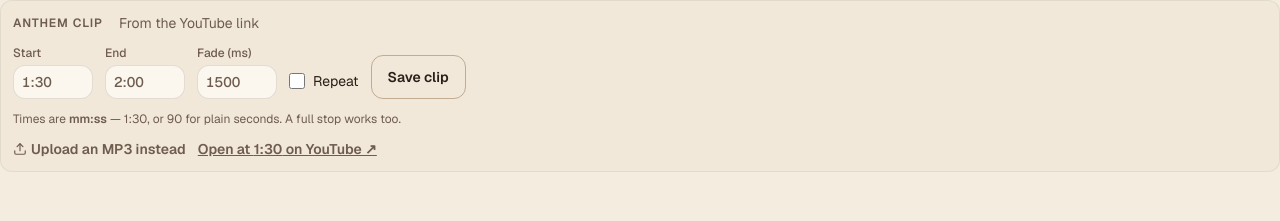
Test: SongClipEditor › refuses a time it cannot read instead of saving zero
This screenshot has width=1280, height=221.
Type "1:75" into the field labelled "Start" at point(53, 82), box [13,65,93,99]
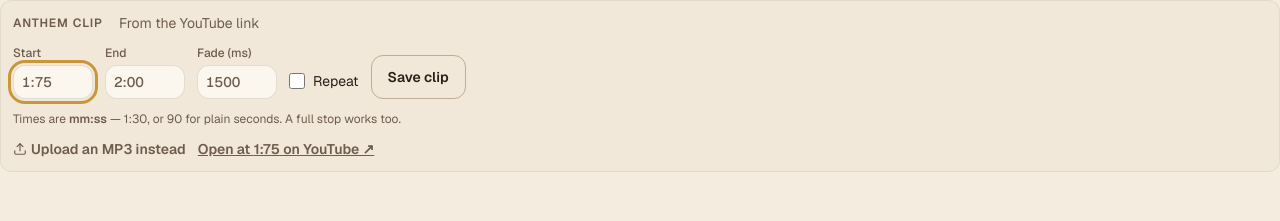
Click the button "Save clip" at point(418, 77), box [371,55,466,99]
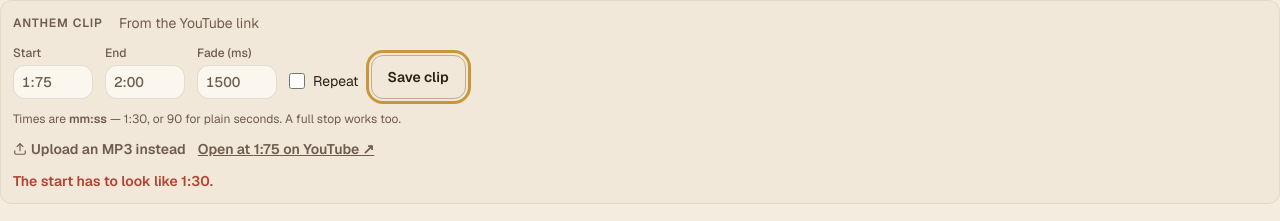
expect the message shows "start": met, box [13,172,213,190]
